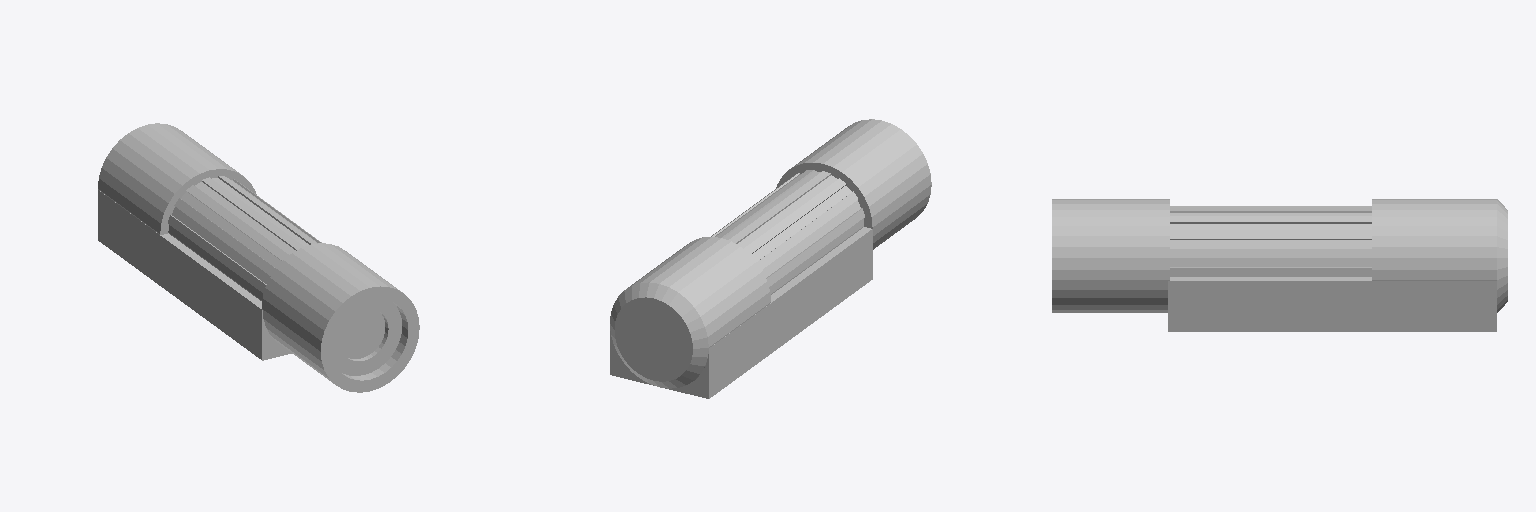
Rendered from laser.obj.
3 views of the same model, side by side, from view 1: azimuth 30°, elevation 25°; view 2: azimuth 150°, elevation 25°; view 3: azimuth 270°, elevation 25° (orthographic).
Parts seen in each view (by area): view 1: Cube; view 2: Cube; view 3: Cube.
Boxes of the visible parts, x1=… form: Cube: x1=98, y1=123, x2=419, y2=392; Cube: x1=610, y1=119, x2=931, y2=398; Cube: x1=1052, y1=199, x2=1507, y2=331.
Size of the model in its own units: 1 by 1 by 4.